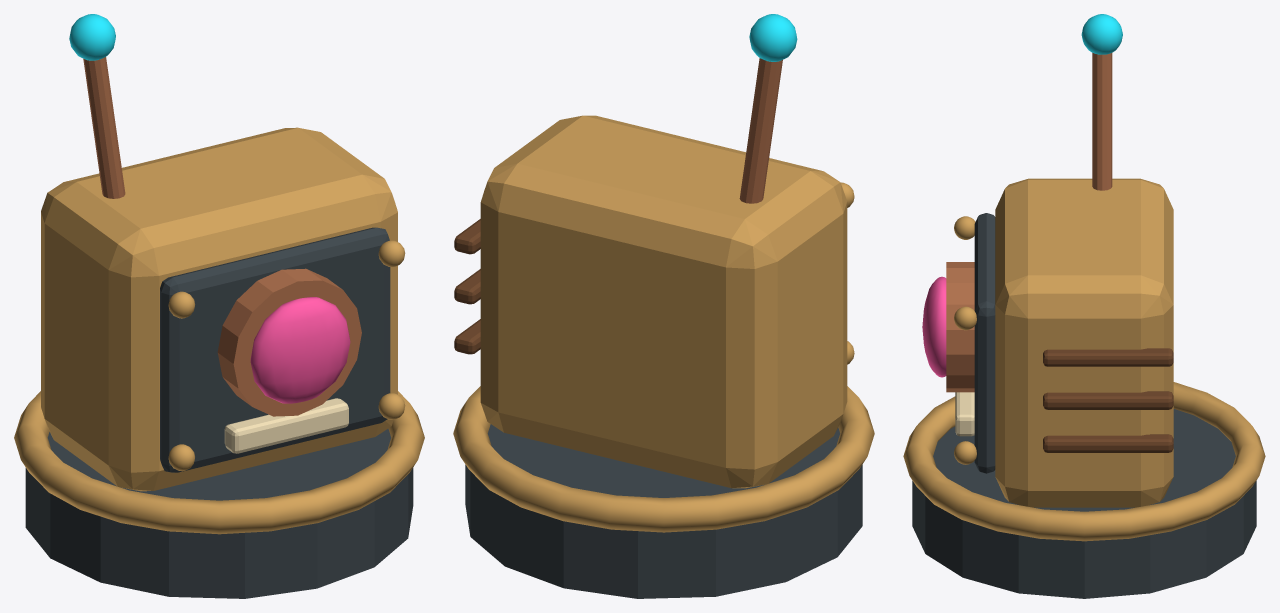
Rendered from remote.glb.
The picture shows the model from 3 angles, left to right: view 1: azimuth 30°, elevation 25°; view 2: azimuth 150°, elevation 25°; view 3: azimuth 270°, elevation 25°; orthographic projection. The views are drawn at different scales.
Visible parts, largest first — view 1: SM_UpgradeRemote; view 2: SM_UpgradeRemote; view 3: SM_UpgradeRemote.
Part boxes in pixels (<box>): SM_UpgradeRemote: <box>14,14,424,598</box>; SM_UpgradeRemote: <box>453,14,874,598</box>; SM_UpgradeRemote: <box>903,14,1265,598</box>.
Bounding box in the file's own units: 0.61 × 0.855 × 0.61.
